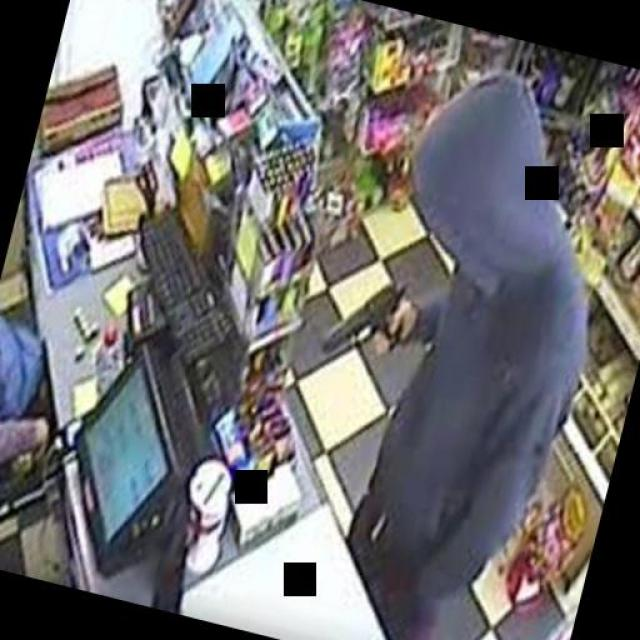gun: (311, 254, 420, 384)
